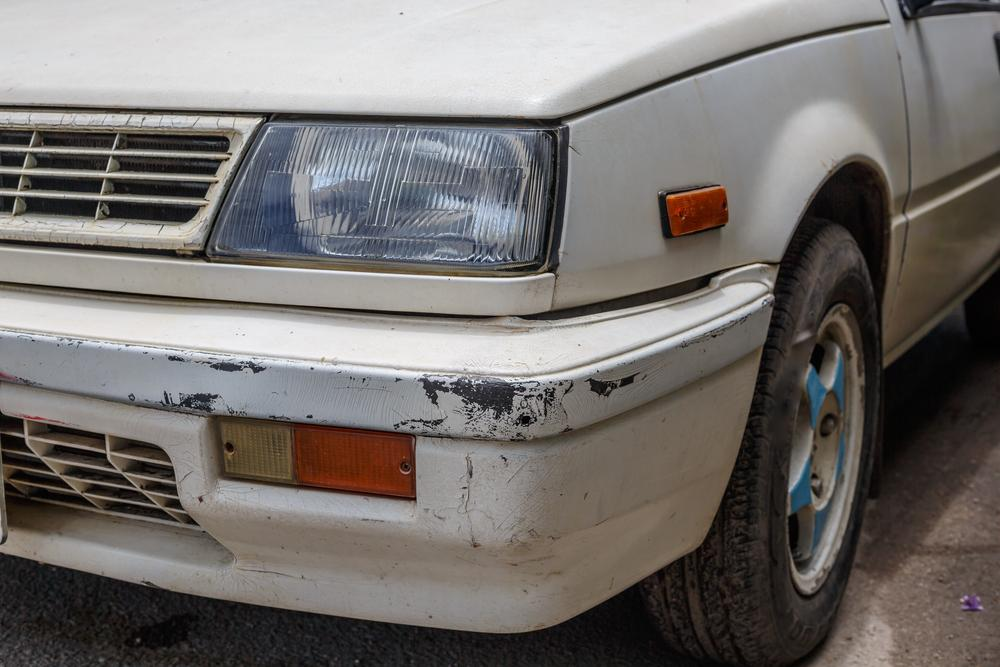scratch: (394, 365, 662, 441)
